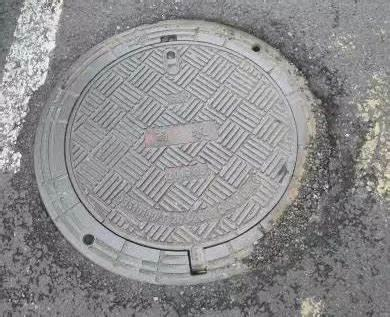wellcover: (46, 16, 339, 297)
